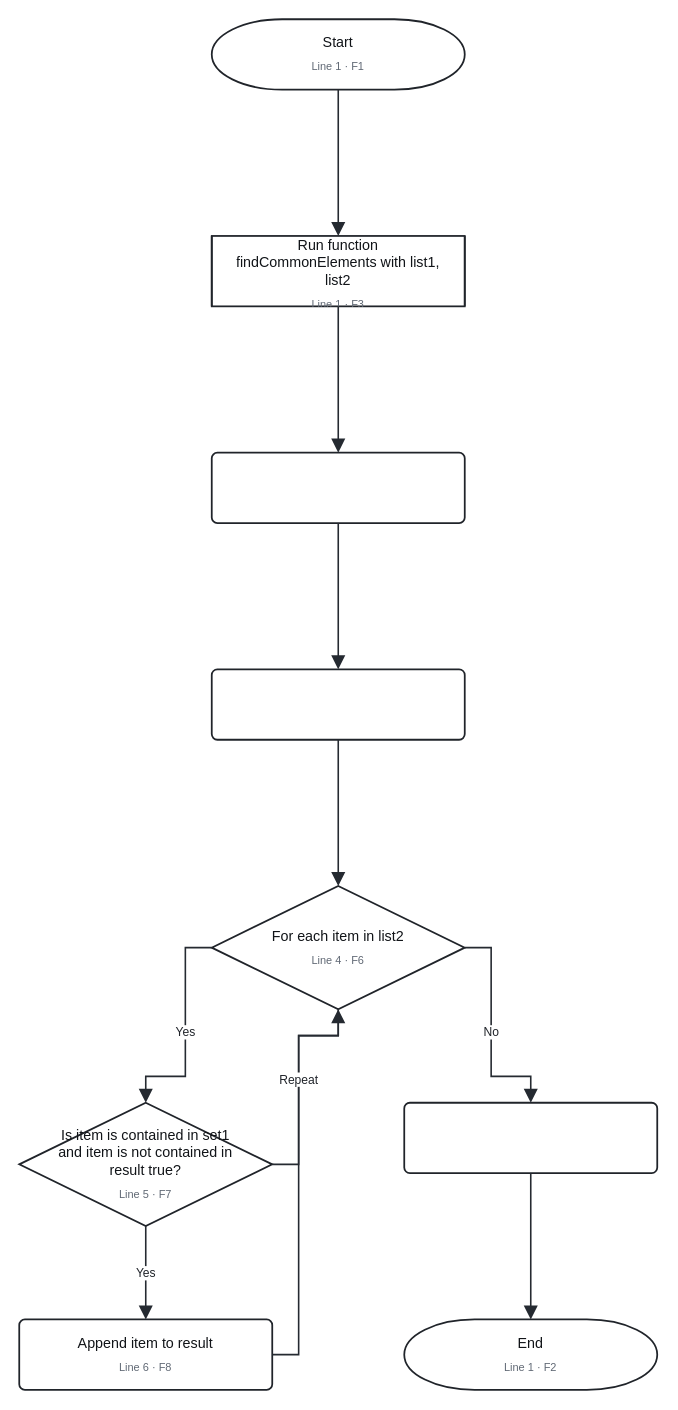
This 678x1410 diagram has some shape labels left out. Here are the shapes that lost their labels. From the top down, the centre of each, then its label:
point (337, 487): Set set1 to the result of to_set(list1) Line 2 · F4
point (337, 704): Set result to an empty list Line 3 · F5
point (530, 1137): Return result Line 9 · F9
